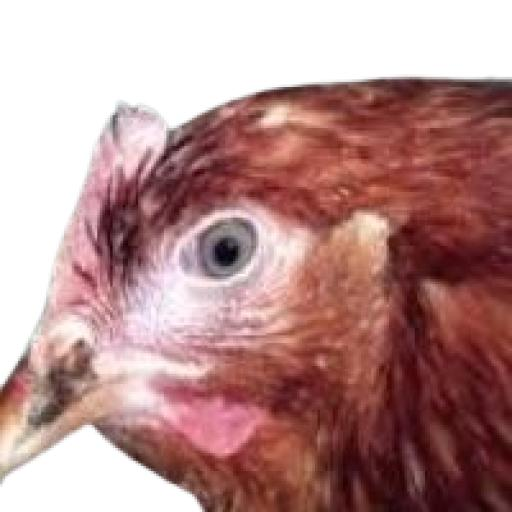disease: (114, 201, 306, 381)
